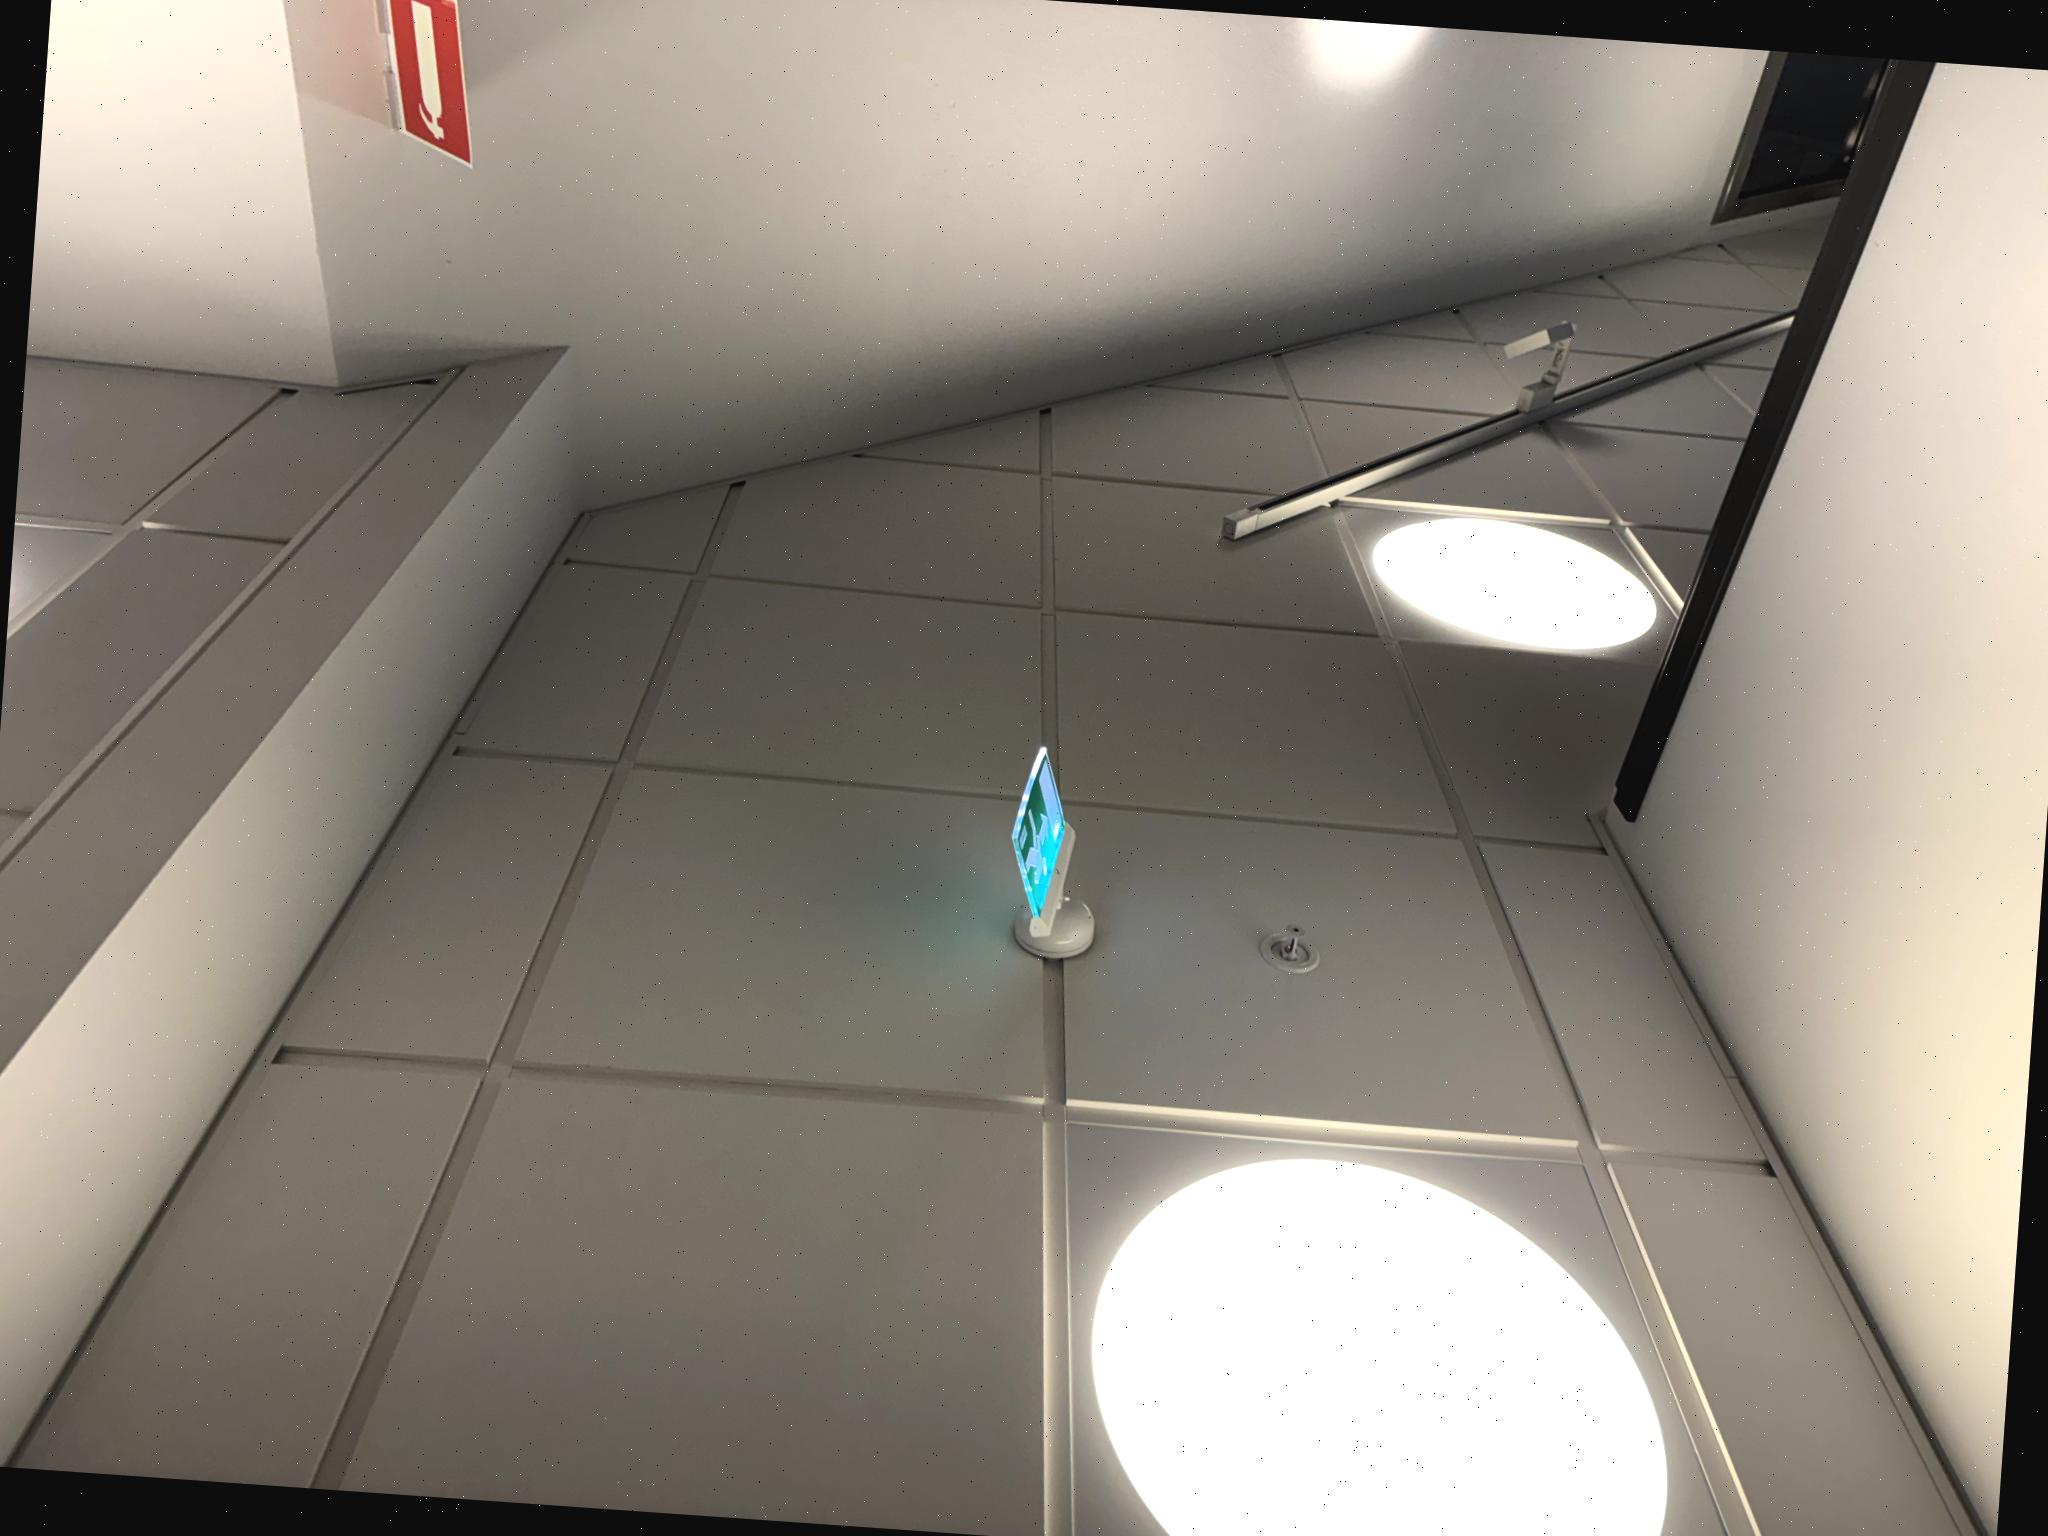exit_sign: (1014, 758, 1076, 912)
